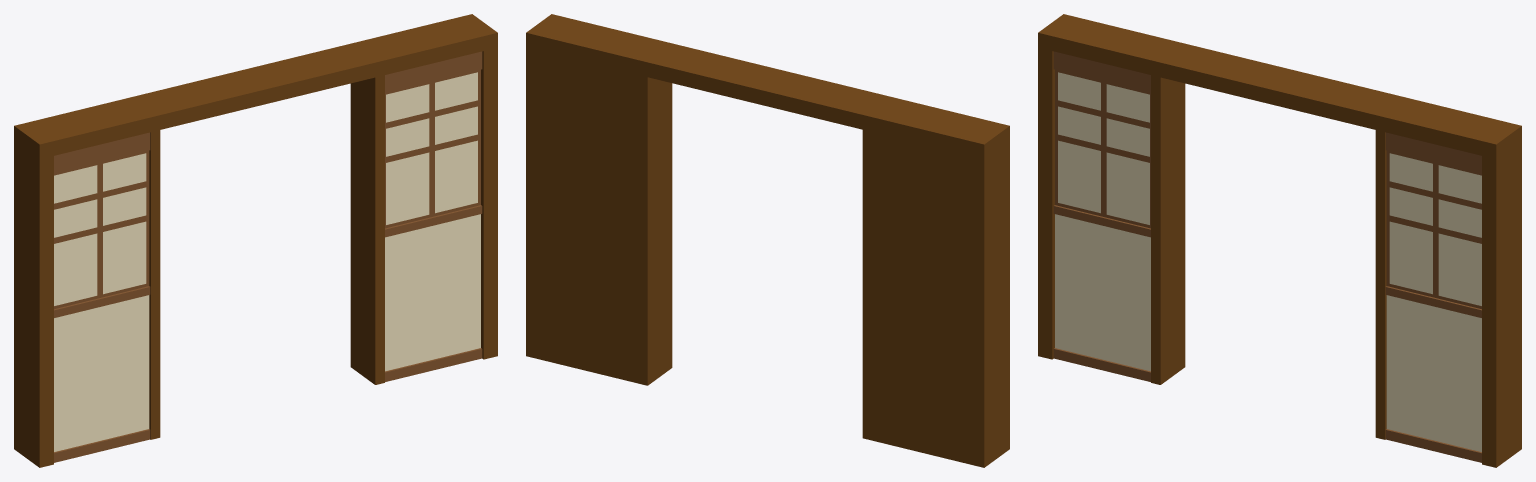
Rendered from Asian_Prop_Building_Modular_Wall_Rural_Open_02.FBX.
3 renders of one model, left to right at view 1: azimuth 30°, elevation 25°; view 2: azimuth 150°, elevation 25°; view 3: azimuth 330°, elevation 25°, orthographic.
Parts seen in each view (by area): view 1: Asian_Prop_Building_Modular_Wall_Rural_Open_02; view 2: Asian_Prop_Building_Modular_Wall_Rural_Open_02; view 3: Asian_Prop_Building_Modular_Wall_Rural_Open_02.
Part boxes in pixels (x1,y1,x2,y2): Asian_Prop_Building_Modular_Wall_Rural_Open_02: (14,14,497,467); Asian_Prop_Building_Modular_Wall_Rural_Open_02: (526,14,1009,467); Asian_Prop_Building_Modular_Wall_Rural_Open_02: (1038,14,1521,467).
Size of the model in its own units: 5167 by 3485 by 500.
